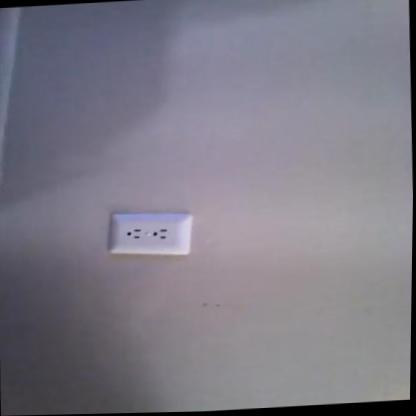OUTLET: (108, 208, 195, 260)
